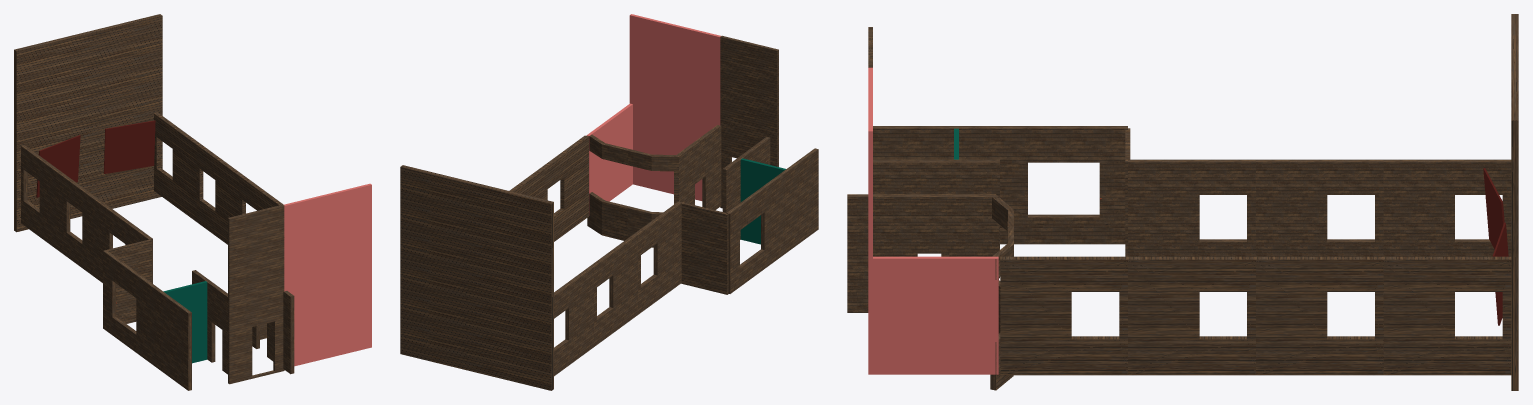
File: walls.fbx
3 renders of one model, left to right at view 1: azimuth 30°, elevation 25°; view 2: azimuth 150°, elevation 25°; view 3: azimuth 270°, elevation 25°, orthographic. The views are drawn at different scales.
Visible parts, largest first — view 1: back wall, recording interial, entrance wall, side wall, side wall.008, side wall.007, red panels, kitchen wall, left wall.006, left wall.001; view 2: back wall, recording interial, side wall, side wall.008, entrance wall, side wall.007, left wall.003, left wall.001, kitchen wall, left wall.006; view 3: side wall.007, side wall.008, recording interial, side wall, left wall.001, left wall.006, back wall, left wall.003, red panels.
Boxes of the visible parts, x1,y1,x2,y2 form: back wall: (14,14,162,232); recording interial: (283,183,371,366); entrance wall: (228,204,284,384); side wall: (103,240,191,390); side wall.008: (21,145,152,283); side wall.007: (154,112,283,244); red panels: (36,120,155,197); kitchen wall: (163,281,207,363); left wall.006: (192,270,227,374); left wall.001: (252,291,294,374); back wall: (400,165,553,390); recording interial: (586,14,720,215); side wall: (681,148,818,294); side wall.008: (554,201,682,376); entrance wall: (720,35,778,208); side wall.007: (509,135,588,241); left wall.003: (587,134,678,247); left wall.001: (674,125,721,210); kitchen wall: (740,158,785,244); left wall.006: (722,137,770,239); side wall.007: (1000,256,1511,375); side wall.008: (1128,159,1511,256); recording interial: (868,67,998,374); side wall: (873,126,1130,256); left wall.001: (847,194,998,312); left wall.006: (873,159,999,278); back wall: (1511,14,1518,390); left wall.003: (990,197,1013,390); red panels: (1483,168,1508,325).
Size of the model in its own units: 1016 by 947 by 2102.
